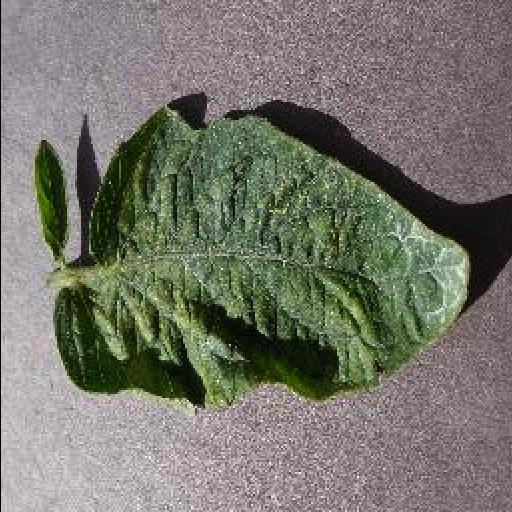disease_tomato: (54, 108, 472, 408)
